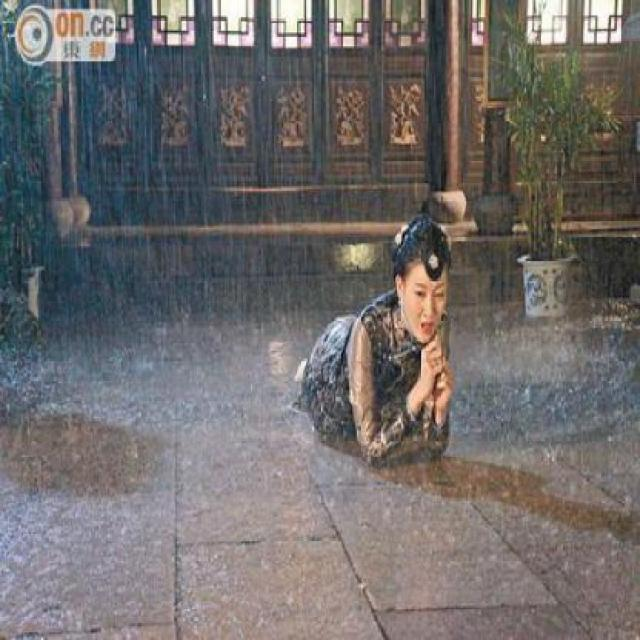fall: (281, 198, 470, 482)
